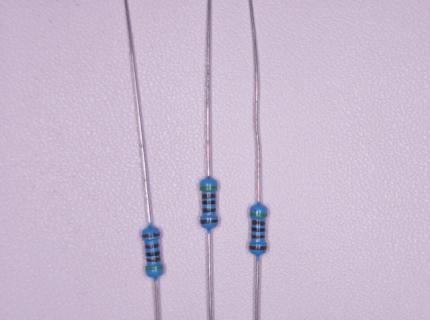Black band: (146, 251, 161, 256), (202, 200, 216, 205), (252, 228, 265, 232)
Brown band: (142, 233, 161, 238), (145, 243, 160, 249), (251, 220, 266, 226), (249, 245, 267, 250), (146, 258, 161, 263), (200, 220, 218, 224), (202, 208, 216, 213), (202, 194, 216, 199), (251, 235, 265, 239)
Green band: (145, 265, 163, 271), (250, 213, 267, 217), (200, 186, 217, 190)
